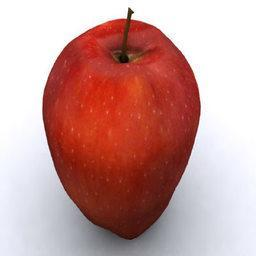apple: (42, 15, 202, 241)
